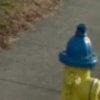Hydrant: (47, 13, 97, 100)
